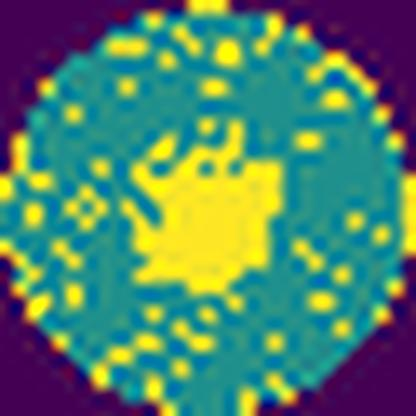Center: (118, 114, 286, 302)
